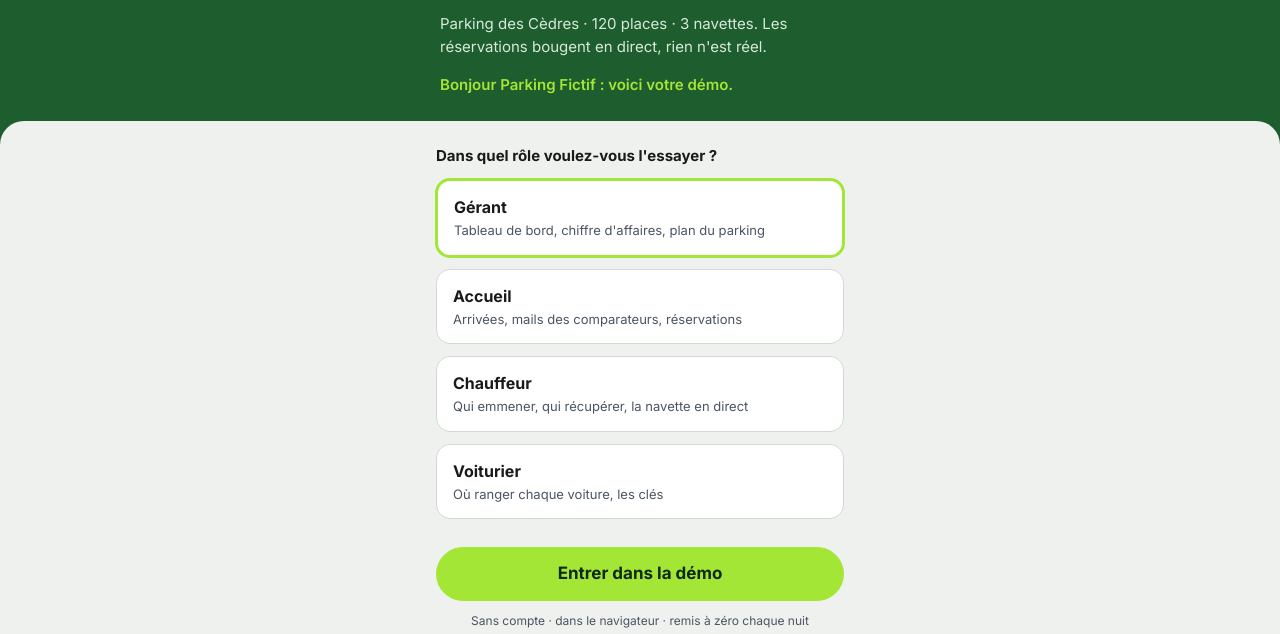
Test: DemoEntryPage › salue le prospect de son lien et le compte
The width and height of the screenshot is (1280, 634).
(page scrolled)
Check: the text "Bonjour Parking Fictif : voici votre démo." is shown, box left=440, top=75, right=733, bottom=94
Click the button "Entrer dans la démo" at (640, 574), box left=436, top=547, right=844, bottom=601
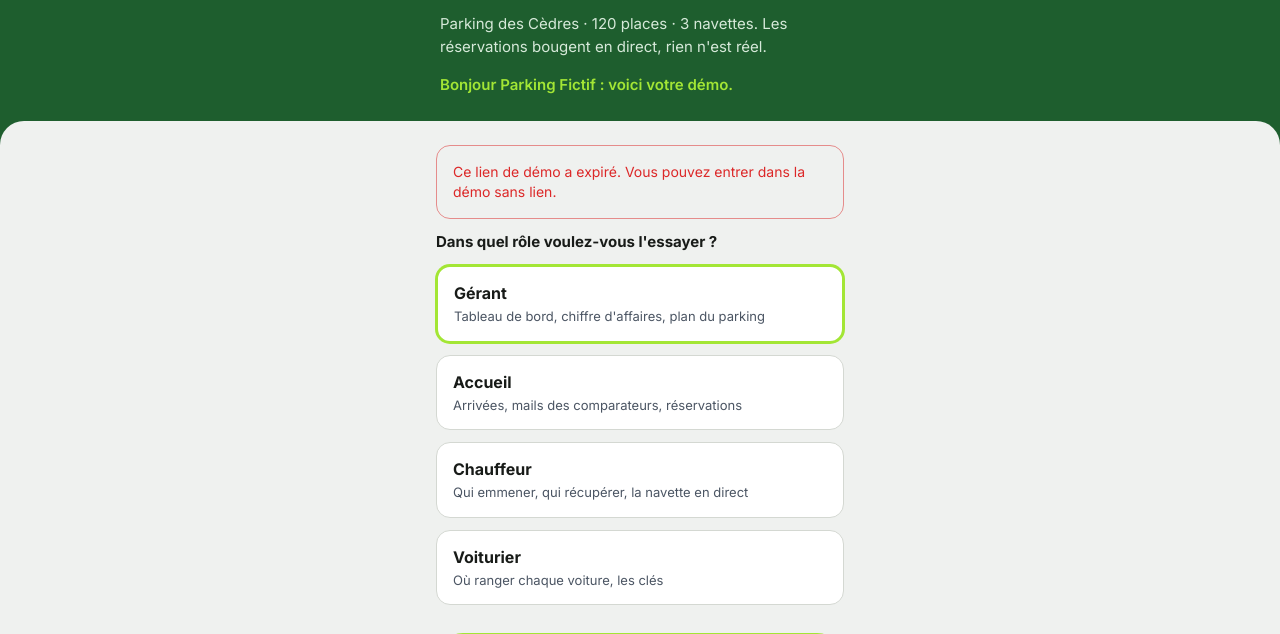
Check: the text "Ce lien de démo a expiré" is shown, box left=453, top=163, right=805, bottom=200
